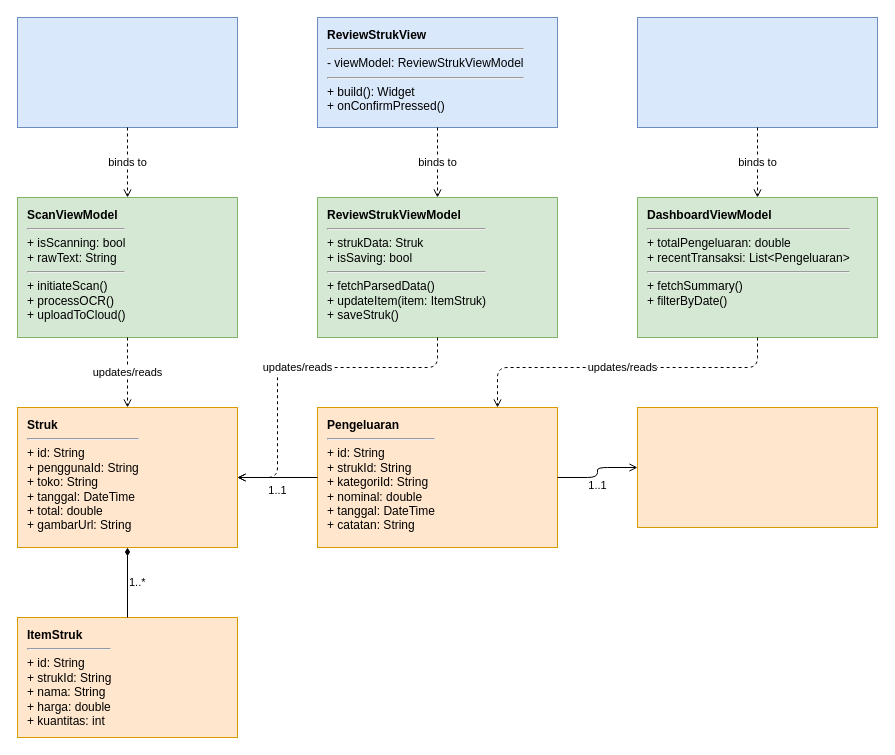
Image size: 895x755. Some labels were removed from this diagram. Here are the shapes that lost their labels. From the top down, the centre of each, then its label:
At point 127,72: "ScanView - viewModel: ScanViewModel + build(): Widget + onScanButtonPressed()".
At point 757,72: "DashboardView - viewModel: DashboardViewModel + build(): Widget + renderChart()".
At point 757,467: "Kategori + id: String + nama: String + ikon: String + tipe: String".
